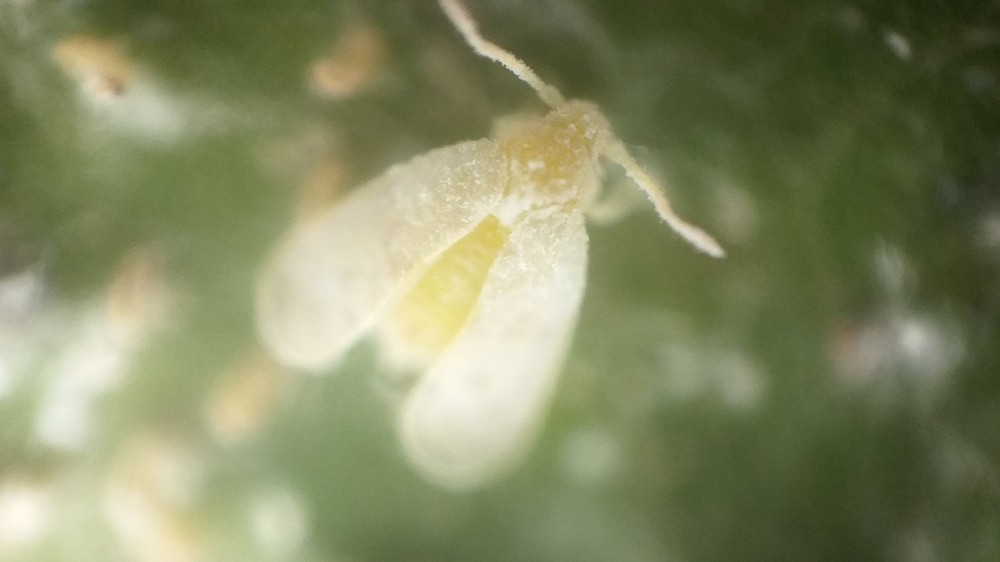Mosca Blanca: (240, 9, 736, 509)
